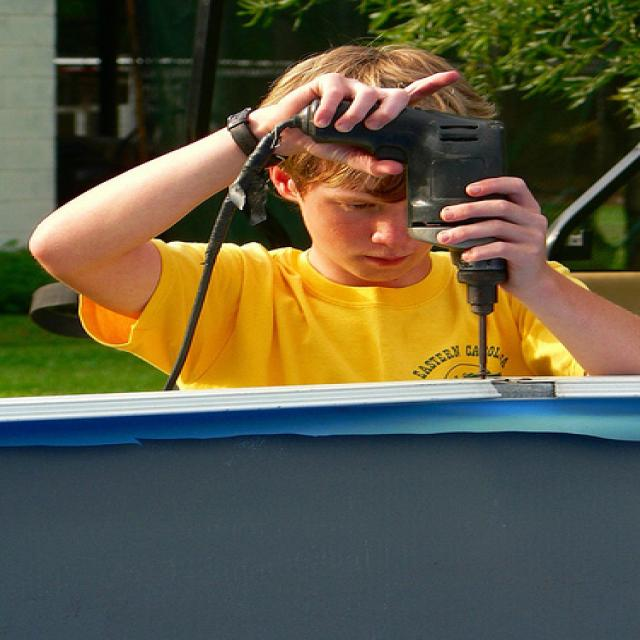driller: (284, 94, 513, 380)
